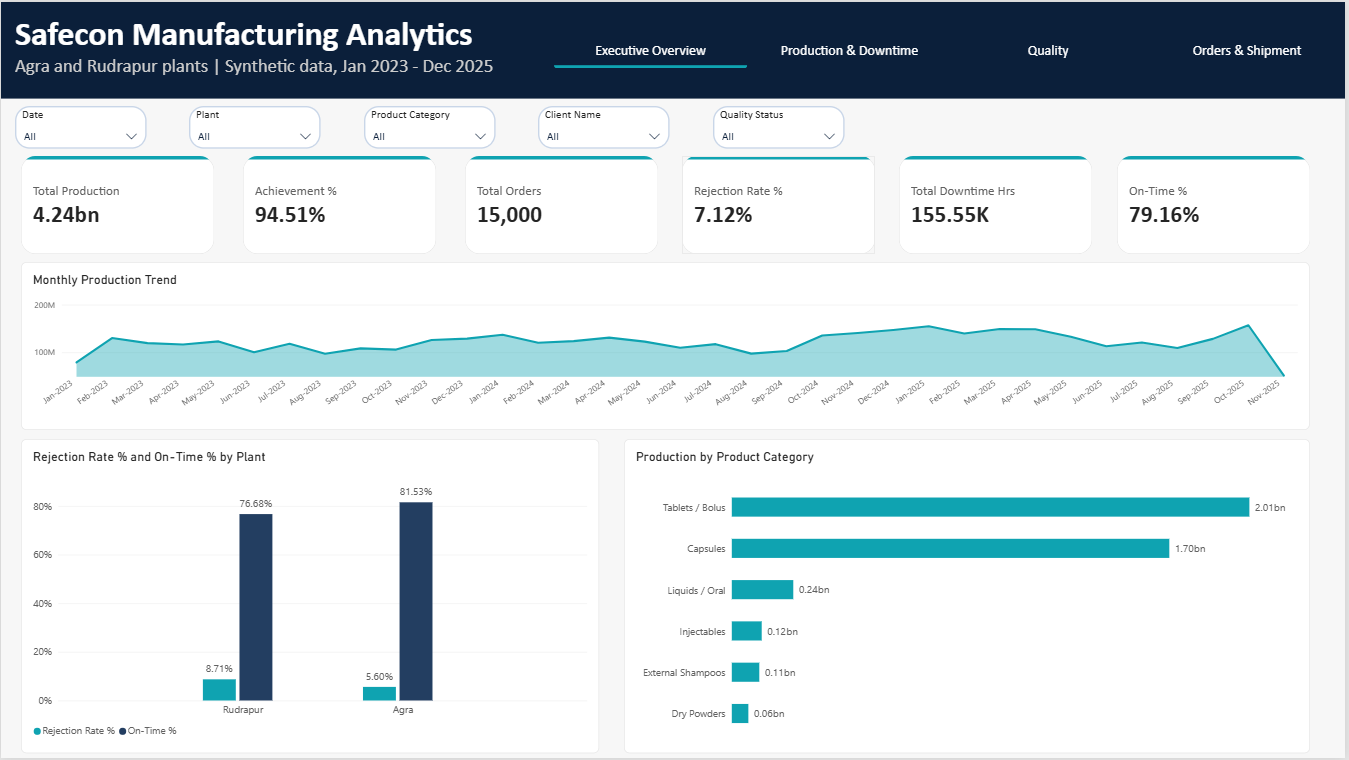

This screenshot's page, from the dashboard's own definition file:
{"tool":"powerbi","page":{"name":"Executive Overview","canvas":[1920,1080],"ordinal":0},"visuals":[{"type":"cardVisual","fields":{"Data":["_measure.Total Production"]},"box":[28.6,220,276,140],"z":0},{"type":"cardVisual","fields":{"Data":["_measure.Achievement %"]},"box":[345.7,220,276,140],"z":1000},{"type":"cardVisual","fields":{"Data":["_measure.Rejection Rate %"]},"box":[972.9,220,276,140],"z":2000},{"type":"cardVisual","fields":{"Data":["_measure.Total Downtime Hrs"]},"box":[1282.9,220,276,140],"z":3000},{"type":"cardVisual","fields":{"Data":["_measure.On-Time %"]},"box":[1594.3,220,276,140],"z":4000},{"type":"cardVisual","fields":{"Data":["_measure.Total Orders"]},"box":[662.9,220,276,140],"z":5000},{"type":"lineChart","title":"Monthly Production Trend","fields":{"Category":["dim_date.Month_Year"],"Y":["_measure.Total Production"]},"box":[28.6,371.4,1841.4,240],"z":6000},{"type":"clusteredColumnChart","fields":{"Category":["dim_plant.Plant"],"Y":["_measure.Rejection Rate %","_measure.On-Time %"]},"box":[28.6,624.3,825.7,448.6],"z":7000},{"type":"clusteredBarChart","title":"Production by Product Category","fields":{"Category":["dim_product.Product_Category"],"Y":["_measure.Total Production"]},"box":[890,624.3,980,448.6],"z":8000},{"type":"shape","box":[0,0,1920,138.3],"z":9000},{"type":"textbox","box":[20,15,770,133.3],"z":10000},{"type":"pageNavigator","box":[790,45,1130,50],"z":11000},{"type":"slicer","fields":{"Values":["dim_product.Product_Category"]},"box":[518.5,148.3,187.7,61],"z":12000},{"type":"slicer","fields":{"Values":["dim_plant.Plant"]},"box":[269.2,148.3,187.7,61],"z":13000},{"type":"slicer","fields":{"Values":["dim_client.Client_Name"]},"box":[767.8,149,187.7,61],"z":14000},{"type":"slicer","fields":{"Values":["fact_production.Quality_Status"]},"box":[1017,148,187.7,61],"z":15000},{"type":"slicer","fields":{"Values":["dim_date.Year"]},"box":[20,148.8,187.7,61],"z":16000}]}

Visuals, with their boxes in screenshot pixels (x1, y1, x2, y2), scaled from the page's 1920x1080 canvas onto the 1349x760 screenshot:
cardVisual - _measure.Total Production: rect(20, 155, 214, 253)
cardVisual - _measure.Achievement %: rect(243, 155, 437, 253)
cardVisual - _measure.Rejection Rate %: rect(684, 155, 877, 253)
cardVisual - _measure.Total Downtime Hrs: rect(901, 155, 1095, 253)
cardVisual - _measure.On-Time %: rect(1120, 155, 1314, 253)
cardVisual - _measure.Total Orders: rect(466, 155, 660, 253)
"Monthly Production Trend" lineChart: rect(20, 261, 1314, 430)
clusteredColumnChart - dim_plant.Plant x _measure.Rejection Rate %: rect(20, 439, 600, 755)
"Production by Product Category" clusteredBarChart: rect(625, 439, 1314, 755)
shape: rect(0, 0, 1348, 97)
textbox: rect(14, 11, 555, 104)
pageNavigator: rect(555, 32, 1348, 67)
slicer - dim_product.Product_Category: rect(364, 104, 496, 147)
slicer - dim_plant.Plant: rect(189, 104, 321, 147)
slicer - dim_client.Client_Name: rect(539, 105, 671, 148)
slicer - fact_production.Quality_Status: rect(715, 104, 846, 147)
slicer - dim_date.Year: rect(14, 105, 146, 148)
